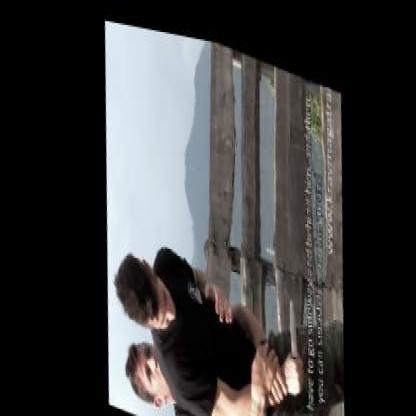knife: (268, 276, 306, 390)
